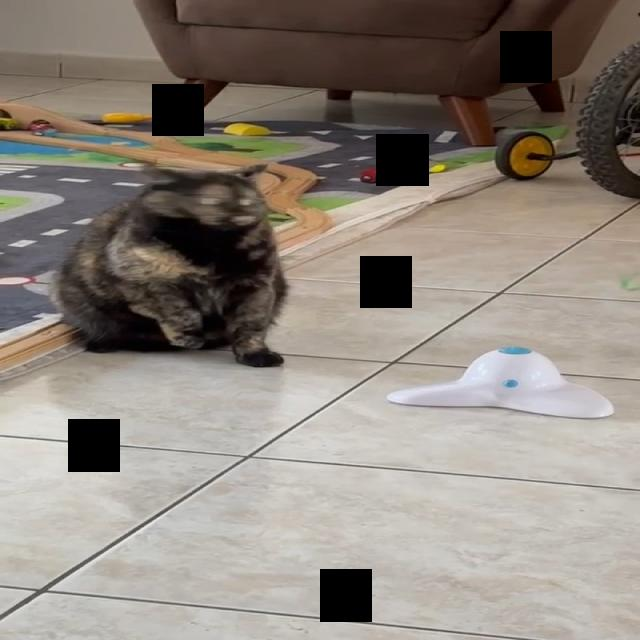authorized: (47, 162, 289, 368)
